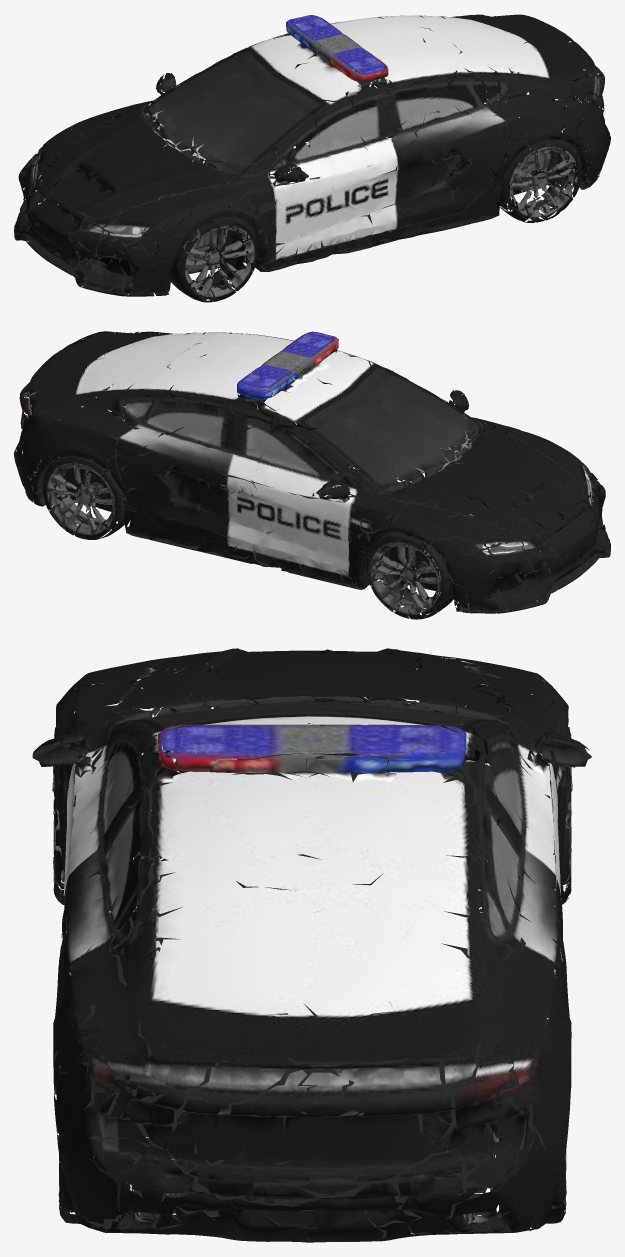
Rendered from police-car.glb.
The picture shows the model from 3 angles, top to bottom: view 1: azimuth 30°, elevation 25°; view 2: azimuth 150°, elevation 25°; view 3: azimuth 270°, elevation 25°; orthographic projection. The views are drawn at different scales.
Size of the model in its own units: 1.9 by 0.5742 by 0.8656.
Materials: 1 (1 with a texture image).
